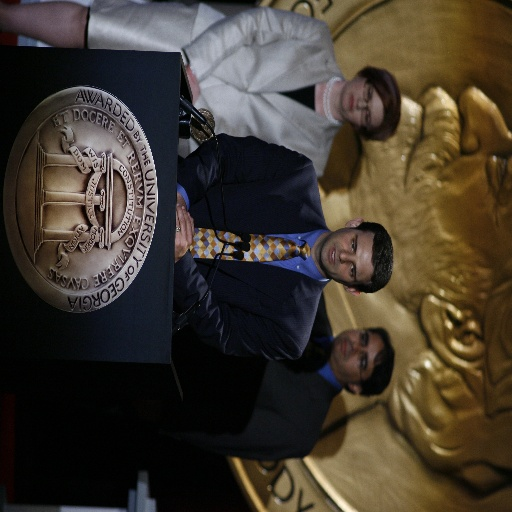hand: (172, 186, 193, 276), (185, 64, 200, 104)
